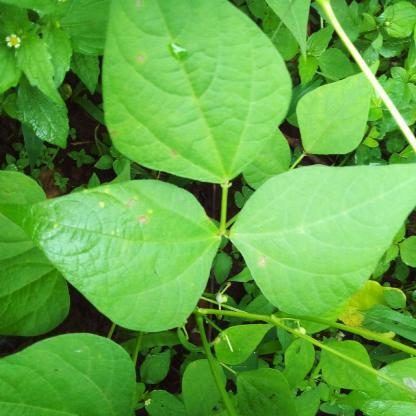Beans_Angular_LeafSpot: (97, 0, 291, 187), (0, 184, 226, 332), (225, 164, 416, 316)
